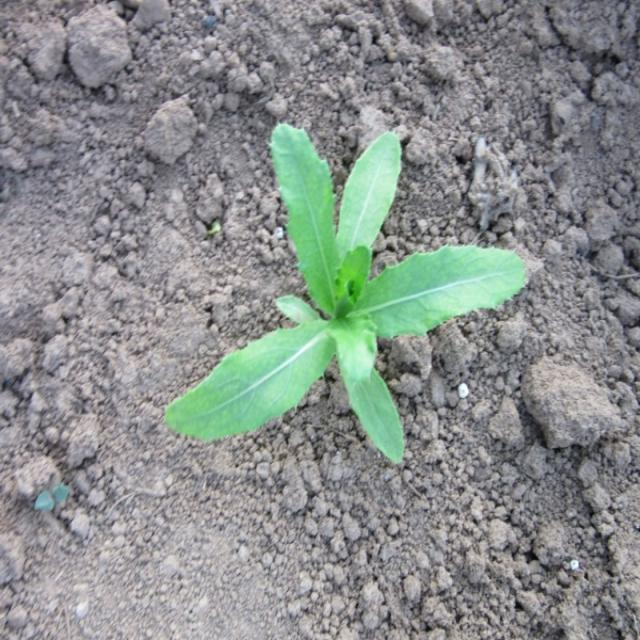cs: (163, 116, 533, 468)
